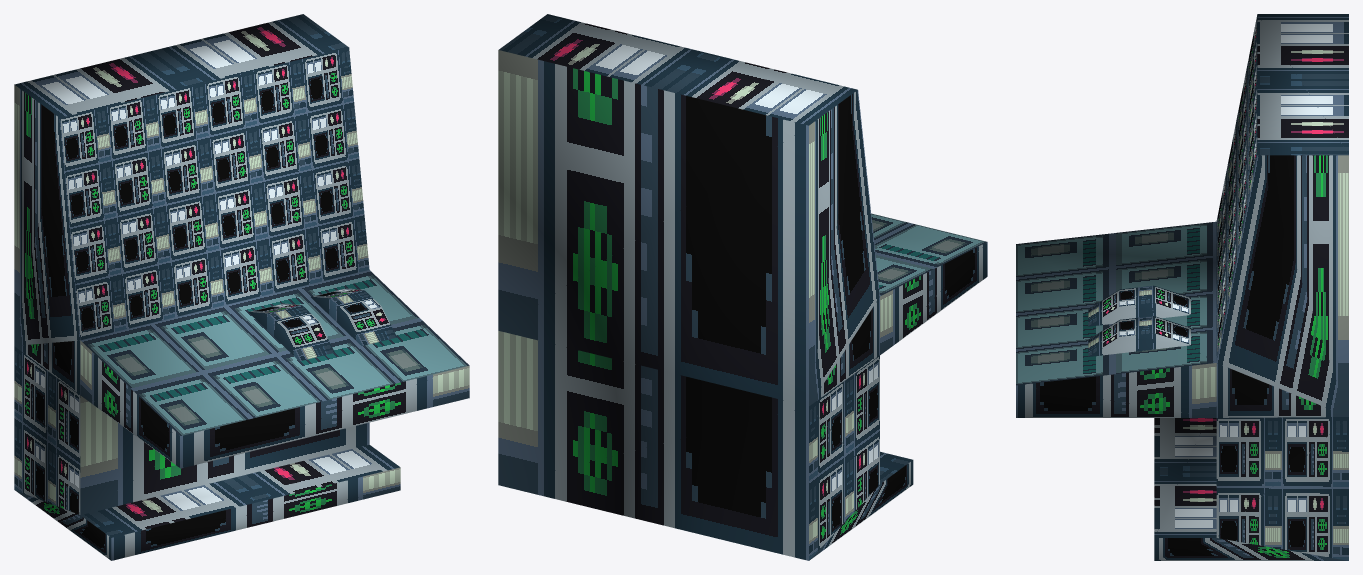
The model's file is 3304IMIG07_08.gltf.
The picture shows the model from 3 angles, left to right: view 1: azimuth 30°, elevation 25°; view 2: azimuth 150°, elevation 25°; view 3: azimuth 270°, elevation 25°; orthographic projection. The views are drawn at different scales.
Visible parts, largest first — view 1: 3304IMIG07_08; view 2: 3304IMIG07_08; view 3: 3304IMIG07_08.
Boxes of the visible parts, x1,y1,x2,y2 form: 3304IMIG07_08: (14, 14, 469, 560); 3304IMIG07_08: (498, 14, 987, 560); 3304IMIG07_08: (1016, 14, 1348, 560).
Bounding box in the file's own units: 0.8999 × 1.21 × 0.8965.
Materials: 4 (4 with a texture image).
